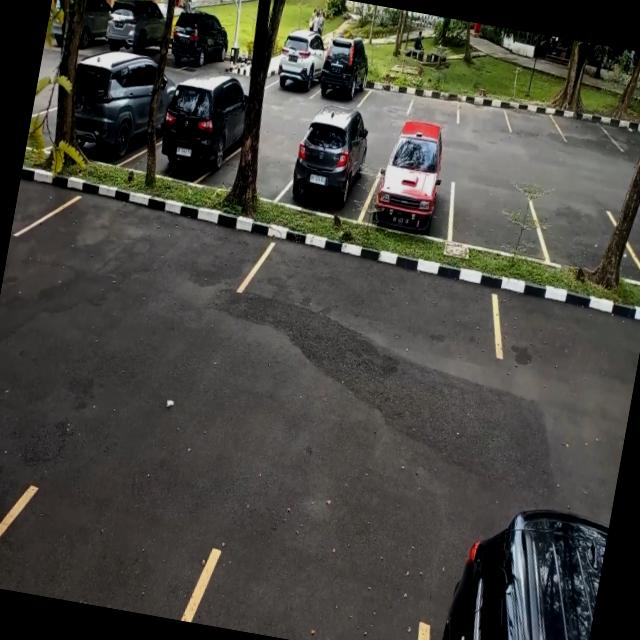car: (152, 73, 250, 189), (63, 52, 158, 171), (278, 123, 381, 221), (362, 142, 462, 240), (270, 26, 329, 98), (316, 38, 375, 108)
free: (261, 224, 525, 339), (48, 169, 275, 290), (537, 193, 640, 280), (446, 178, 550, 258), (504, 90, 570, 142), (559, 100, 623, 153), (454, 84, 516, 134), (360, 66, 418, 116), (407, 78, 464, 125)
